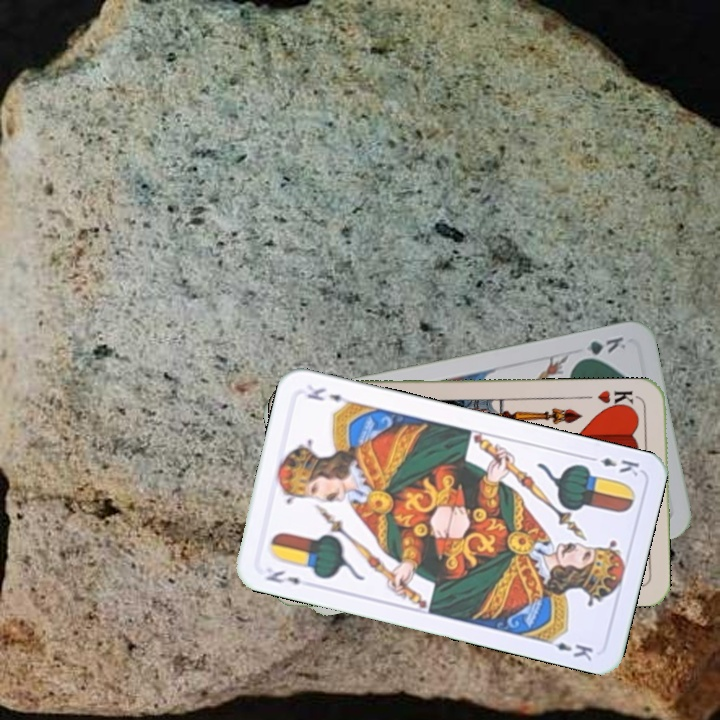EK: (583, 452, 642, 479), (262, 566, 303, 587)
GK: (573, 332, 629, 363)
HK: (593, 386, 643, 412)
